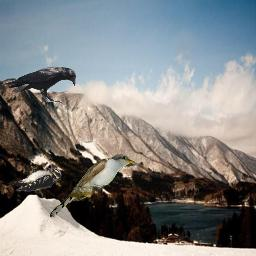Crow: (2, 66, 76, 102)
Cuckoo: (48, 153, 138, 218)
Woodpecker: (7, 166, 64, 193)
